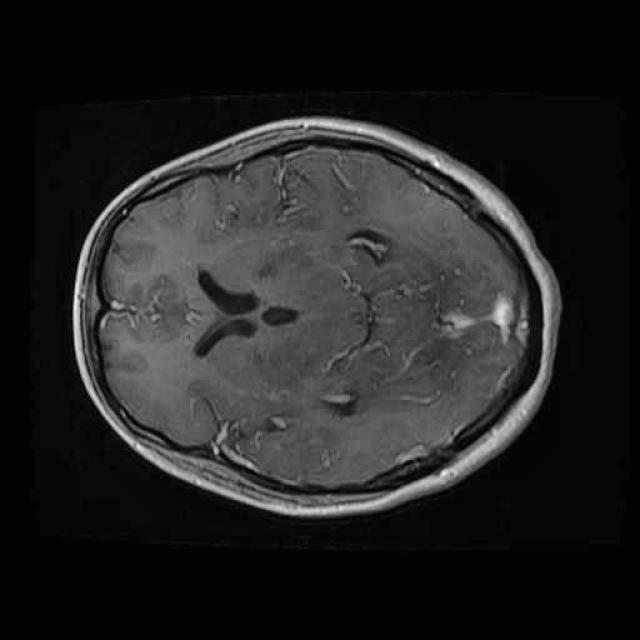Tumor: (328, 212, 413, 282)
